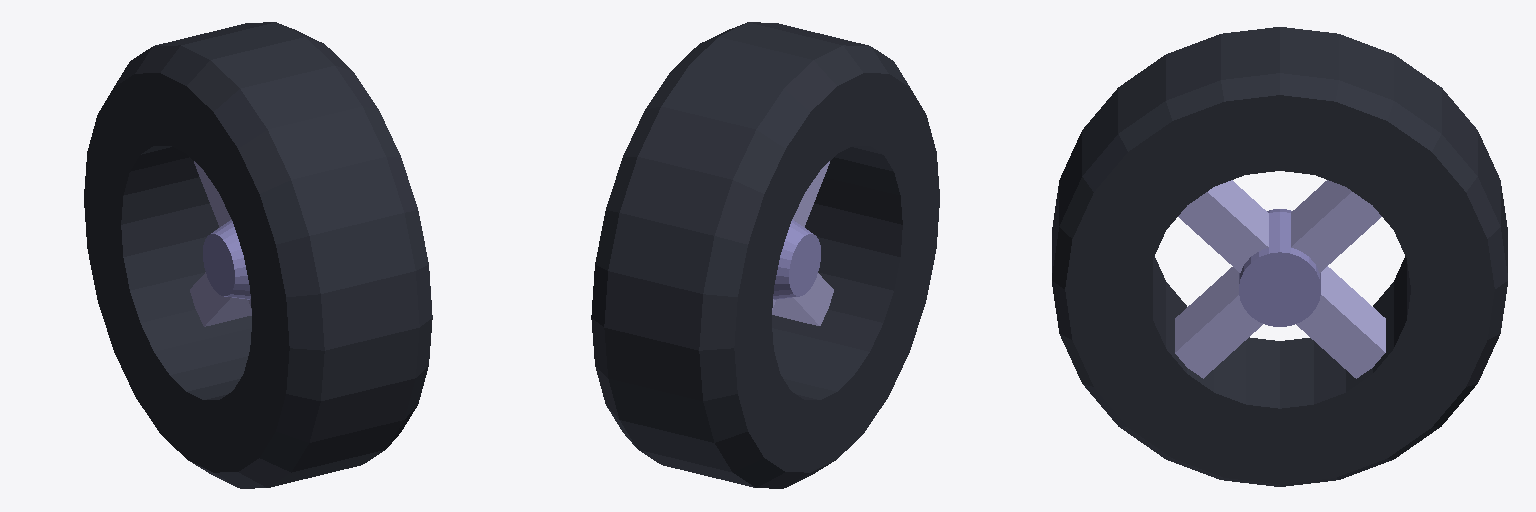
The model's file is wheel.obj.
3 views of the same model, side by side, from view 1: azimuth 30°, elevation 25°; view 2: azimuth 150°, elevation 25°; view 3: azimuth 270°, elevation 25° (orthographic).
Visible parts, largest first — view 1: mergedBlocks; view 2: mergedBlocks; view 3: mergedBlocks.
Part boxes in pixels (x1,y1,x2,y2): mergedBlocks: (84, 22, 432, 488); mergedBlocks: (591, 22, 939, 488); mergedBlocks: (1052, 27, 1507, 486).
Bounding box in the file's own units: 0.2156 × 0.6161 × 0.6161.